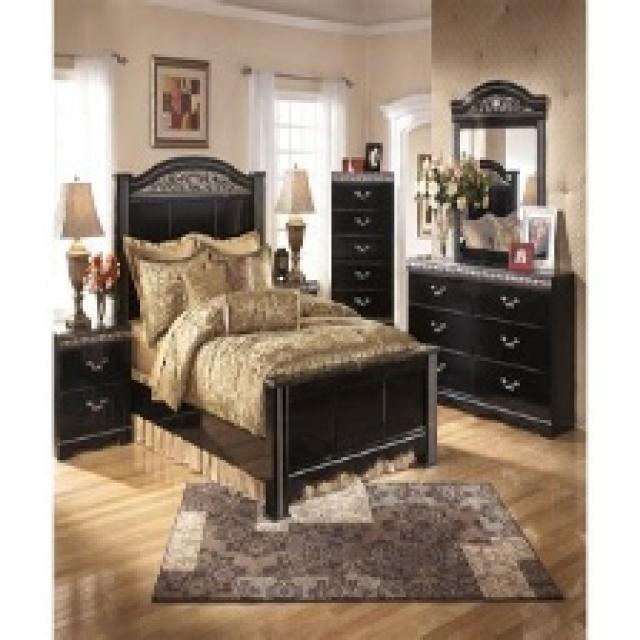Bed: (111, 154, 440, 520)
